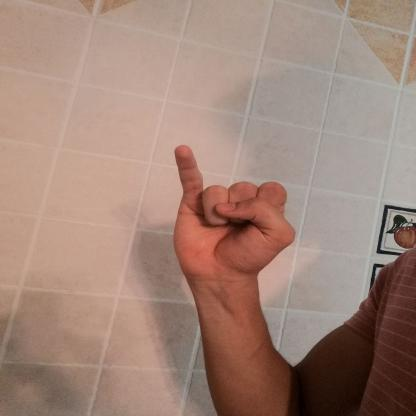MEEM: (156, 134, 308, 291)
